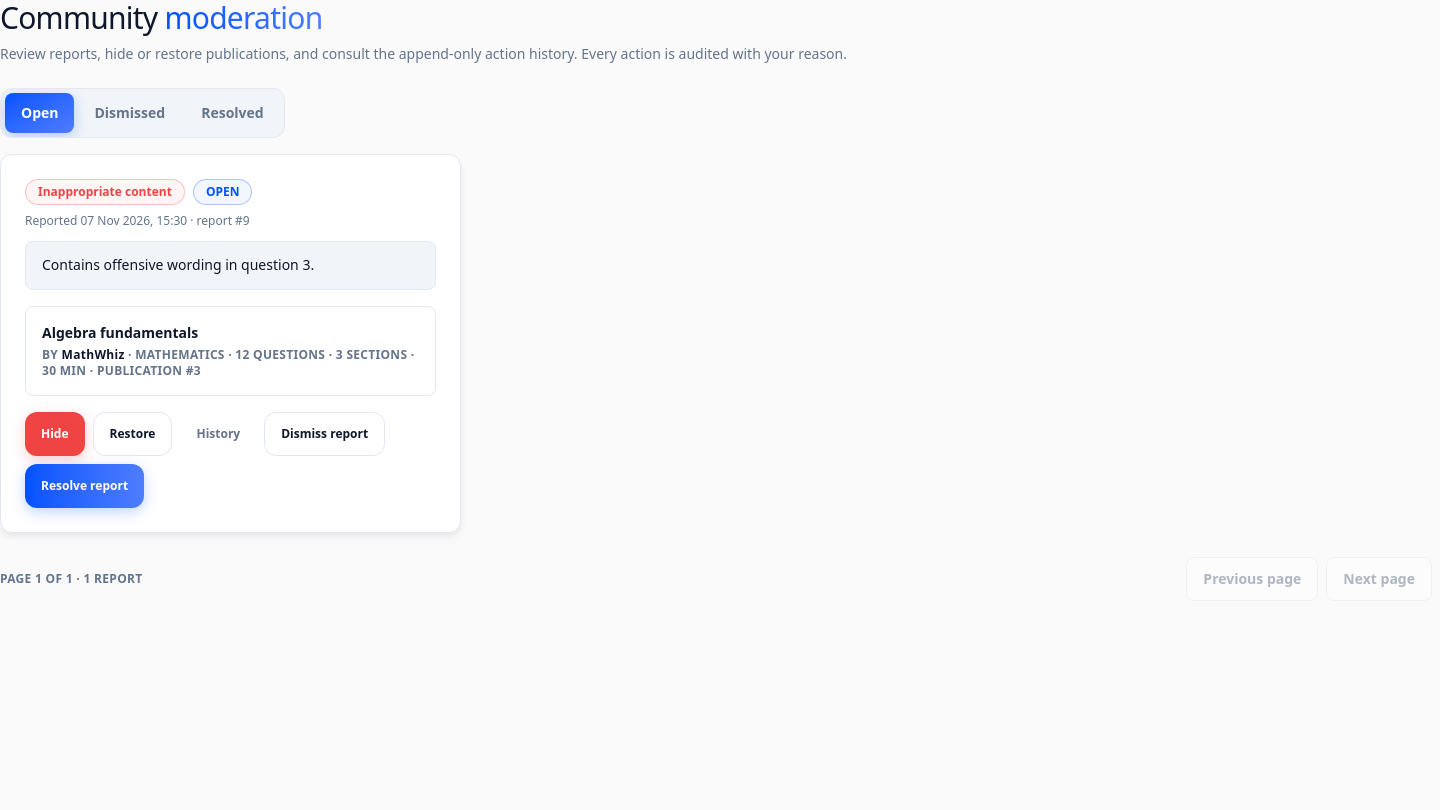
Test case: /community/moderation › dismisses a report with an optional (empty) note
This screenshot has width=1440, height=810.
Click the button "Dismiss report".
click(325, 434)  # box [264,412,385,456]
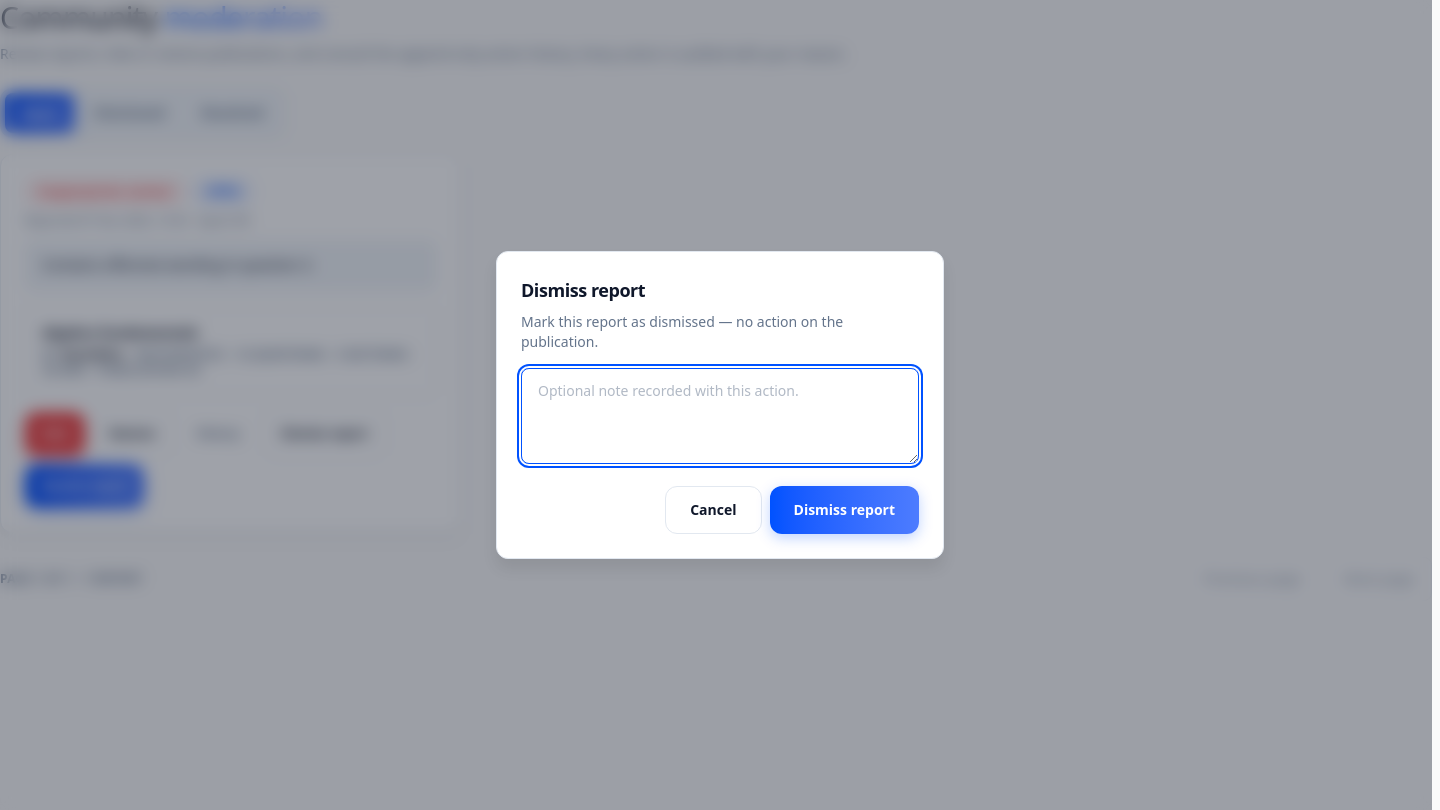
// No reason needed — submit directly with an empty note.
Click the button "Dismiss report".
click(844, 510)  # box [770,486,919,534]
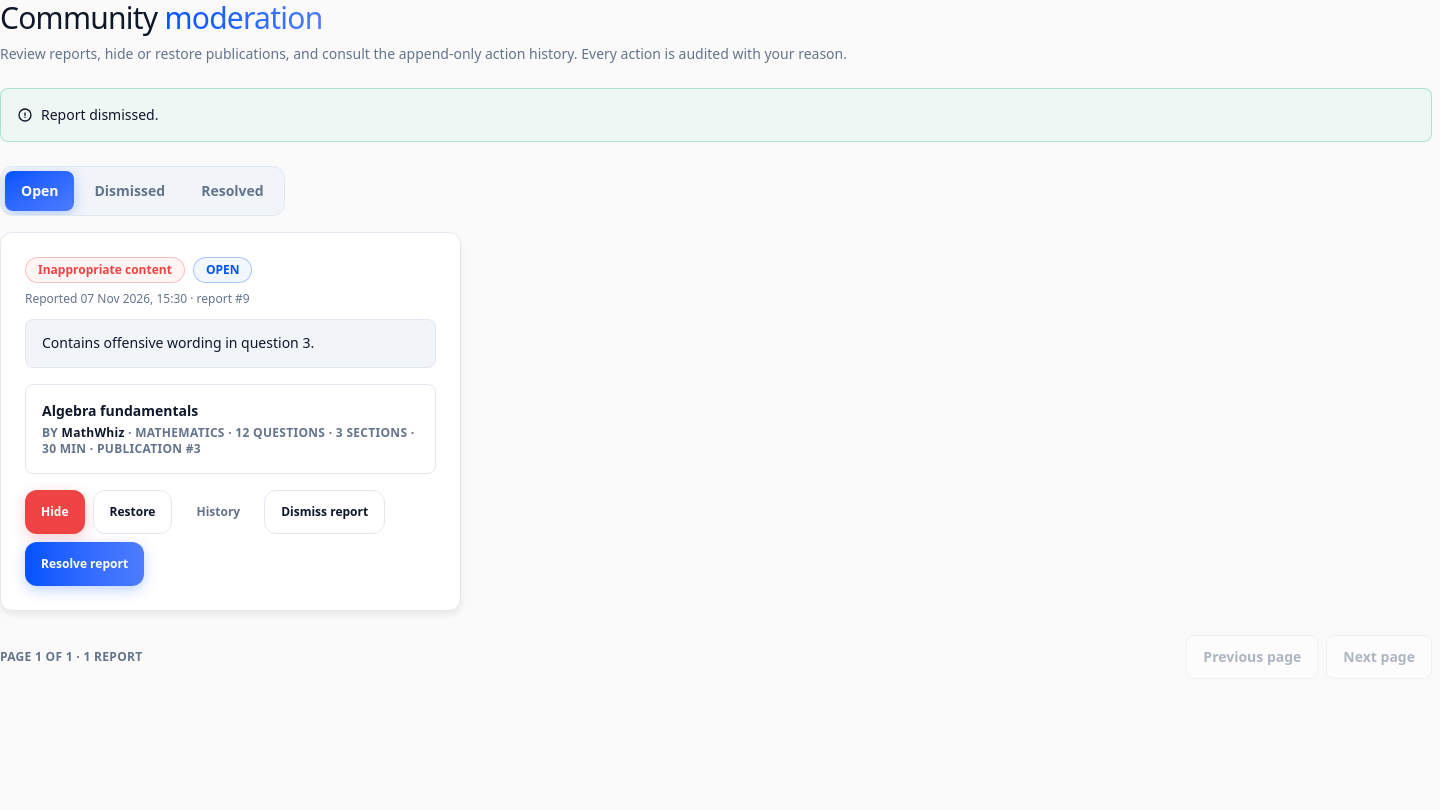
Check: the text "Report dismissed." is shown, box [41,105,158,125]
